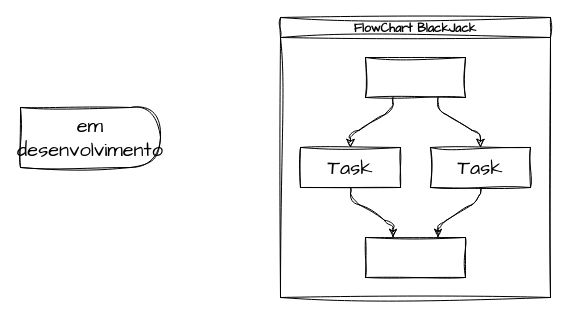
This 568x315 diagram has some shape labels left out. The centre of each missing label's shape, as x and y in pixels:
"End" goes at (415,257).
"Start" goes at (415,77).
